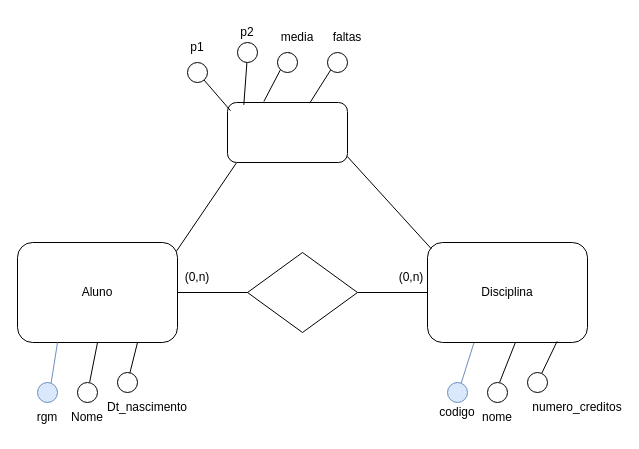
Image size: 639x449. Some labels were removed from this diagram. Here are the shapes that lost their labels. From the top down, the box of each, then its label:
(226, 102, 348, 162): aluno_disciplina
(246, 252, 358, 332): Cursa
